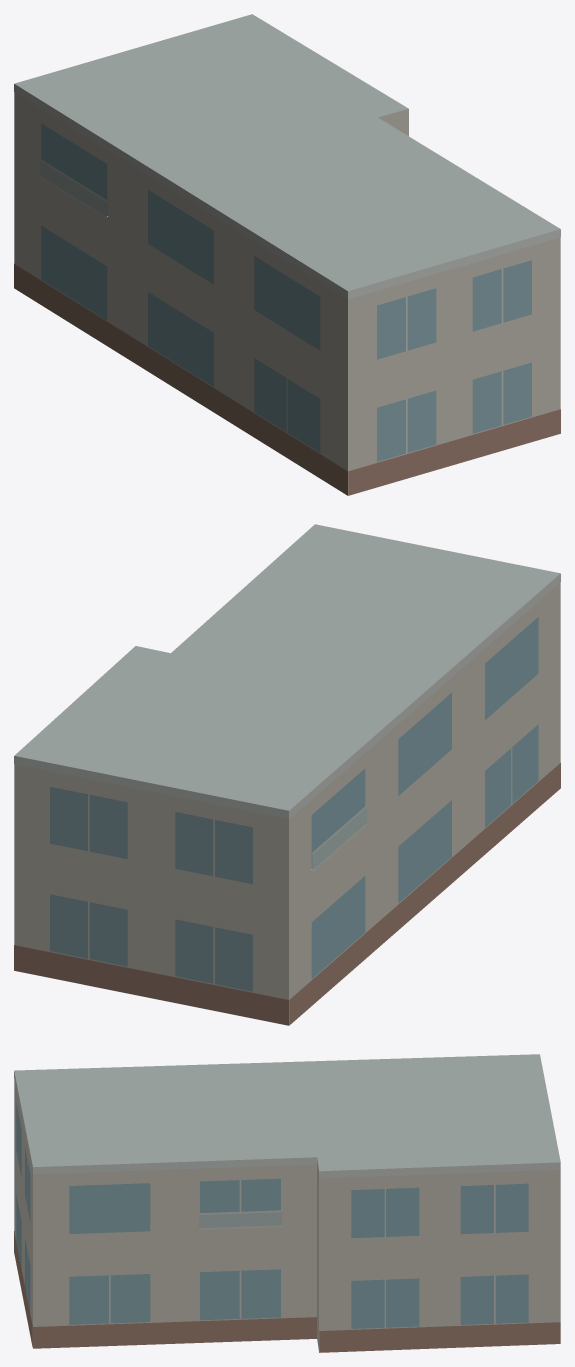
Rendered from survey-upis-33003103.glb.
3 views of the same model, one above another, from view 1: azimuth 30°, elevation 25°; view 2: azimuth 150°, elevation 25°; view 3: azimuth 270°, elevation 25° (orthographic). The views are drawn at different scales.
Visible parts, largest first — view 1: survey-upis-33003103.tmp; view 2: survey-upis-33003103.tmp; view 3: survey-upis-33003103.tmp.
Part boxes in pixels (x1=…): survey-upis-33003103.tmp: x1=14, y1=14, x2=560, y2=495; survey-upis-33003103.tmp: x1=14, y1=524, x2=560, y2=1025; survey-upis-33003103.tmp: x1=14, y1=1054, x2=560, y2=1352.
Size of the model in its own units: 8.45 by 6.1 by 16.66.
